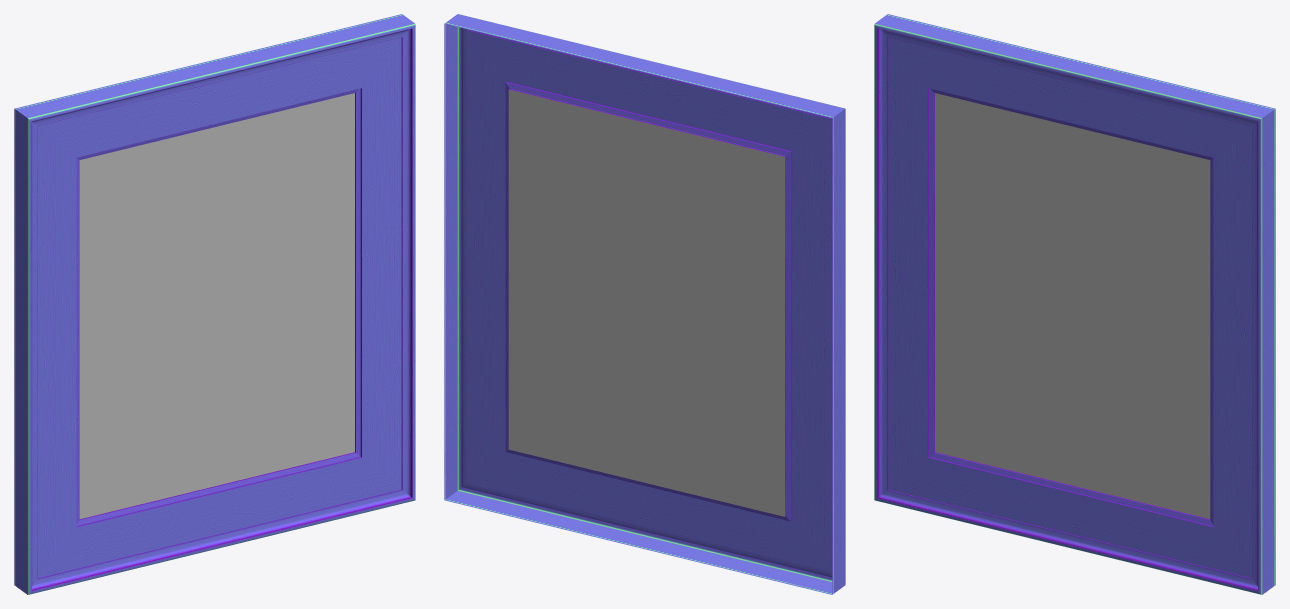
The picture shows the model from 3 angles, left to right: view 1: azimuth 30°, elevation 25°; view 2: azimuth 150°, elevation 25°; view 3: azimuth 330°, elevation 25°; orthographic projection.
Visible parts, largest first — view 1: _14_04, _14_04_frame; view 2: _14_04, _14_04_frame; view 3: _14_04, _14_04_frame.
Part boxes in pixels (box(x1,y1,x2,y2)): _14_04: box(79, 93, 354, 518); _14_04_frame: box(14, 14, 415, 594); _14_04: box(508, 89, 784, 516); _14_04_frame: box(444, 14, 845, 594); _14_04: box(935, 93, 1210, 518); _14_04_frame: box(874, 14, 1275, 594).
Size of the model in its own units: 79.99 by 93.99 by 4.94.
